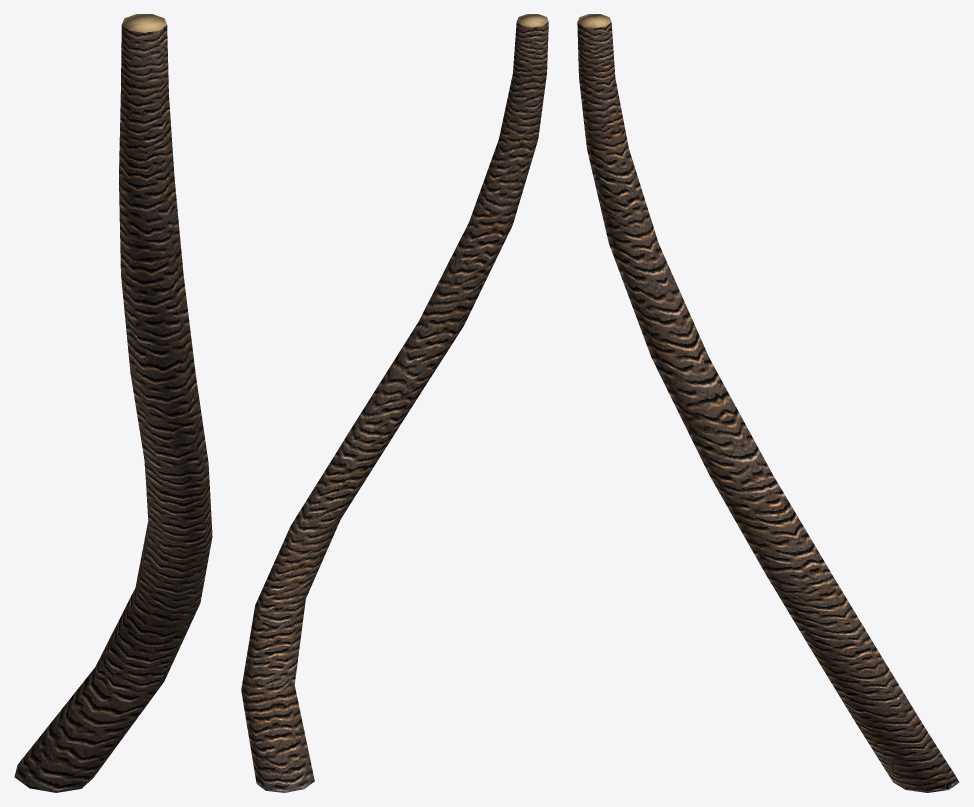
Rendered from Palm2MeshShape.dae.
3 views of the same model, side by side, from view 1: azimuth 30°, elevation 25°; view 2: azimuth 150°, elevation 25°; view 3: azimuth 270°, elevation 25° (orthographic). The views are drawn at different scales.
Visible parts, largest first — view 1: Palm2Mesh; view 2: Palm2Mesh; view 3: Palm2Mesh.
Boxes of the visible parts, left/top/right/bottom form: Palm2Mesh: left=14, top=14, right=212, bottom=792; Palm2Mesh: left=241, top=14, right=548, bottom=792; Palm2Mesh: left=577, top=14, right=959, bottom=792.
Bounding box in the file's own units: 4.18 × 16.04 × 7.8.
